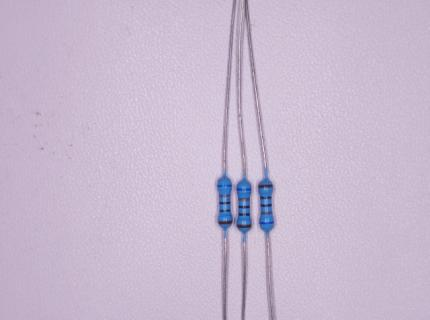Black band: (219, 201, 231, 205), (260, 196, 271, 200), (261, 204, 273, 207), (238, 205, 250, 208), (219, 209, 230, 212), (238, 214, 250, 216)
Blue band: (216, 184, 231, 187), (236, 188, 251, 191), (259, 222, 274, 225)
Brown band: (236, 224, 252, 229), (217, 220, 233, 224), (258, 184, 273, 188)
Grey band: (238, 197, 250, 201), (261, 211, 273, 215), (219, 194, 230, 198)
